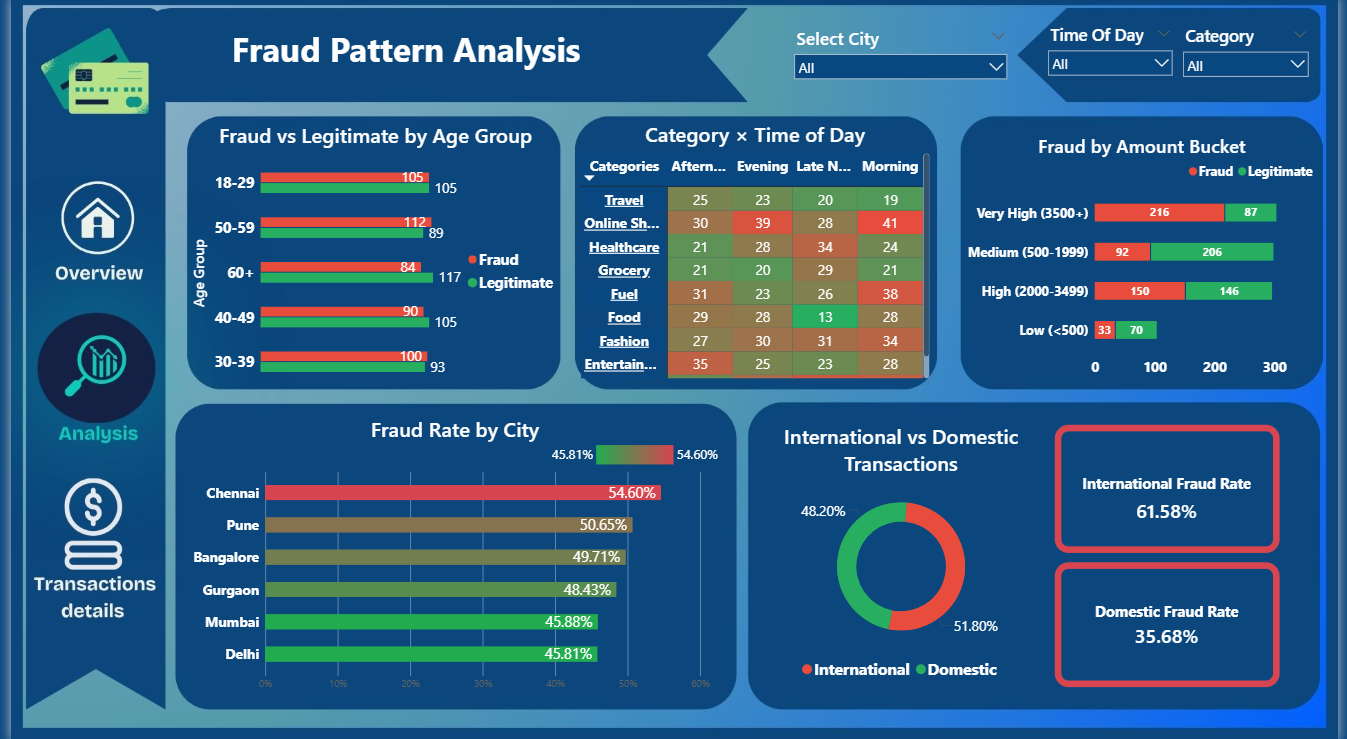

What the dashboard file says about the page in this screenshot:
{"tool":"powerbi","page":{"name":"analysis","canvas":[1920,1080],"ordinal":1},"visuals":[{"type":"actionButton","box":[74.7,260.3,104.5,108.8],"z":0},{"type":"actionButton","box":[74.7,262.4,104.5,108.8],"z":1000},{"type":"actionButton","box":[75,268.8,91.2,102.5],"z":2000},{"type":"actionButton","box":[64.1,688.8,122.8,141.5],"z":3000},{"type":"clusteredBarChart","title":"Fraud vs Legitimate by Age Group","fields":{"Category":["transactions.Age_Group"],"Series":["transactions.Fraud_Label"],"Y":["CountNonNull(transactions.transaction_id)"]},"box":[246.2,166.2,563.8,422.5],"z":4000},{"type":"barChart","title":" Fraud by Amount Bucket","fields":{"Category":["transactions.Amount_Bucket"],"Series":["transactions.Fraud_Label"],"Y":["CountNonNull(transactions.transaction_id)"]},"box":[1368.3,185,538.3,388.3],"z":5000},{"type":"pivotTable","title":"Category × Time of Day","fields":{"Columns":["transactions.Time_Of_Day"],"Rows":["transactions.merchant_category"],"Values":["CountNonNull(transactions.fraud)"]},"box":[809.4,164.5,536.7,404.7],"z":6000},{"type":"clusteredBarChart","title":"Fraud Rate by City","fields":{"Category":["transactions.city"],"Y":["transactions.Fraud Rate %"]},"box":[246.7,592.2,793.3,435.6],"z":7000},{"type":"donutChart","title":"International vs Domestic Transactions","fields":{"Category":["transactions.Intl_Label"],"Y":["CountNonNull(transactions.transaction_id)"]},"box":[1101.1,602.2,376.7,406.7],"z":8000},{"type":"cardVisual","fields":{"Data":["transactions.international fraud Rate"]},"box":[1511.1,620,325.6,185.6],"z":9000},{"type":"cardVisual","fields":{"Data":["transactions.Domestic Fraud Rate"]},"box":[1511.1,818.9,325.6,181.1],"z":10000},{"type":"slicer","fields":{"Values":["transactions.Time_Of_Day"]},"box":[1496,40,190,102],"z":11000},{"type":"slicer","fields":{"Values":["transactions.merchant_category"]},"box":[1691.4,41.4,191.4,101.4],"z":12000},{"type":"slicer","fields":{"Values":["transactions.city"]},"box":[1130,44,318,100],"z":13000},{"type":"textbox","title":"Fraud Pattern Analysis","box":[228,44,688,102],"z":14000}]}

Visuals, with their boxes in screenshot pixels (x1, y1, x2, y2), scaled from the page's 1920x1080 canvas onto the 1347x739 screenshot:
actionButton: pyautogui.locateOnScreen(52, 178, 126, 253)
actionButton: pyautogui.locateOnScreen(52, 180, 126, 254)
actionButton: pyautogui.locateOnScreen(53, 184, 117, 254)
actionButton: pyautogui.locateOnScreen(45, 471, 131, 568)
"Fraud vs Legitimate by Age Group" clusteredBarChart: pyautogui.locateOnScreen(173, 114, 568, 403)
" Fraud by Amount Bucket" barChart: pyautogui.locateOnScreen(960, 127, 1338, 392)
"Category × Time of Day" pivotTable: pyautogui.locateOnScreen(568, 113, 944, 389)
"Fraud Rate by City" clusteredBarChart: pyautogui.locateOnScreen(173, 405, 730, 703)
"International vs Domestic Transactions" donutChart: pyautogui.locateOnScreen(772, 412, 1037, 690)
cardVisual - transactions.international fraud Rate: pyautogui.locateOnScreen(1060, 424, 1289, 551)
cardVisual - transactions.Domestic Fraud Rate: pyautogui.locateOnScreen(1060, 560, 1289, 684)
slicer - transactions.Time_Of_Day: pyautogui.locateOnScreen(1050, 27, 1183, 97)
slicer - transactions.merchant_category: pyautogui.locateOnScreen(1187, 28, 1321, 98)
slicer - transactions.city: pyautogui.locateOnScreen(793, 30, 1016, 99)
"Fraud Pattern Analysis" textbox: pyautogui.locateOnScreen(160, 30, 643, 100)
